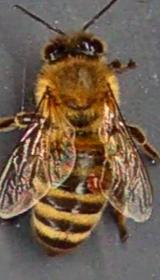varroa_mite: (80, 164, 112, 201)
